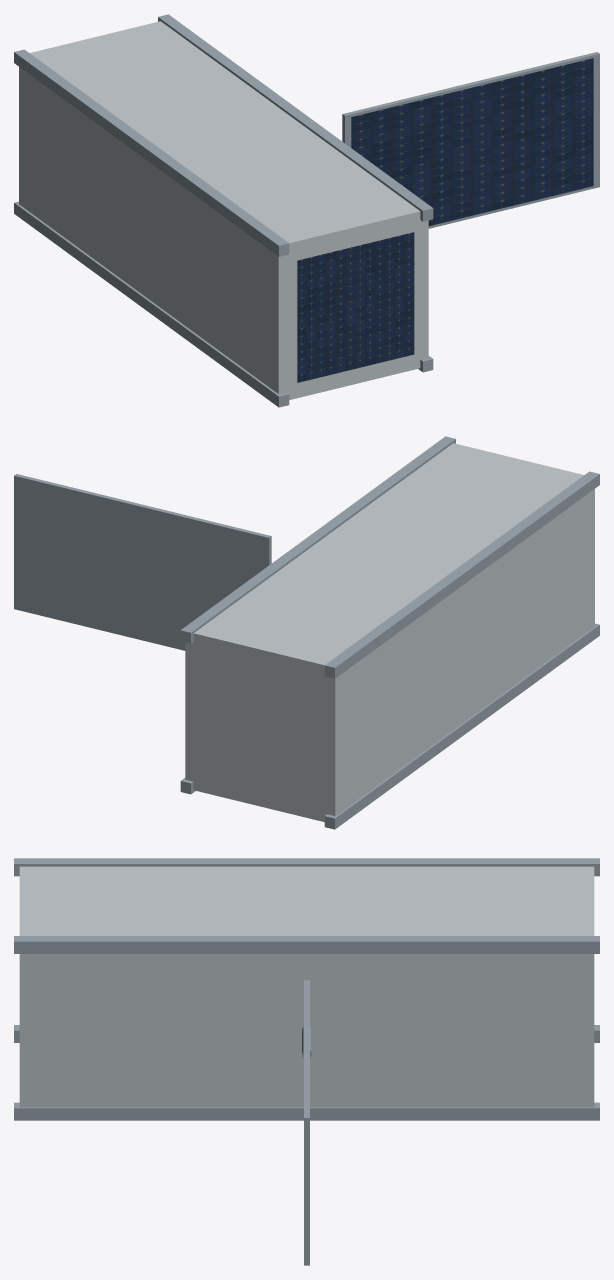
Rendered from ref-cubesat-3u-43044.glb.
The picture shows the model from 3 angles, top to bottom: view 1: azimuth 30°, elevation 25°; view 2: azimuth 150°, elevation 25°; view 3: azimuth 270°, elevation 25°; orthographic projection. The views are drawn at different scales.
Visible parts, largest first — view 1: Spacecraft body, Photovoltaic laminates, Body-mounted cells, Dispenser rail (×3), Array frame; view 2: Spacecraft body, Array frame, Dispenser rail (×3); view 3: Spacecraft body, Dispenser rail (×3), Array frame.
Part boxes in pixels (<box>): Spacecraft body: <box>19,21,428,399</box>; Photovoltaic laminates: <box>351,58,593,226</box>; Body-mounted cells: <box>297,232,414,382</box>; Dispenser rail (×3): <box>14,14,433,407</box>; Array frame: <box>342,52,599,228</box>; Spacecraft body: <box>185,443,594,821</box>; Array frame: <box>14,474,271,650</box>; Dispenser rail (×3): <box>180,436,599,829</box>; Spacecraft body: <box>19,866,594,1107</box>; Dispenser rail (×3): <box>14,858,599,1120</box>; Array frame: <box>304,980,309,1265</box>.
Size of the model in its own units: 0.3015 by 0.103 by 0.306.
Materials: 3 (1 with a texture image).
